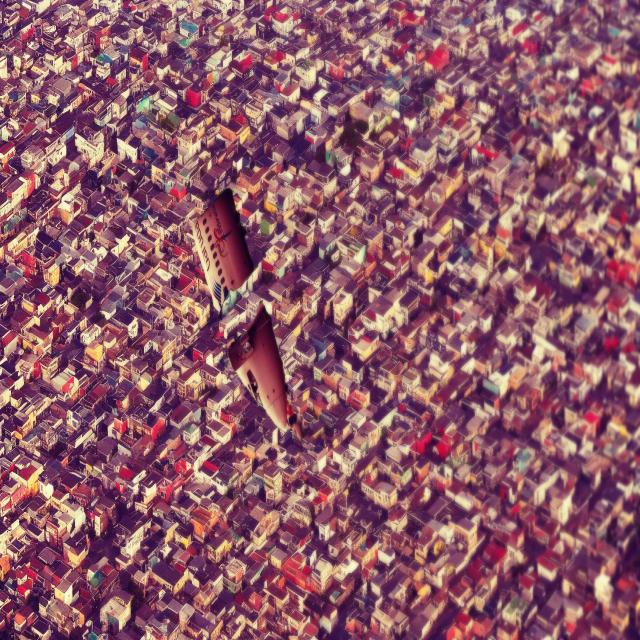airplane: (191, 187, 288, 432)
